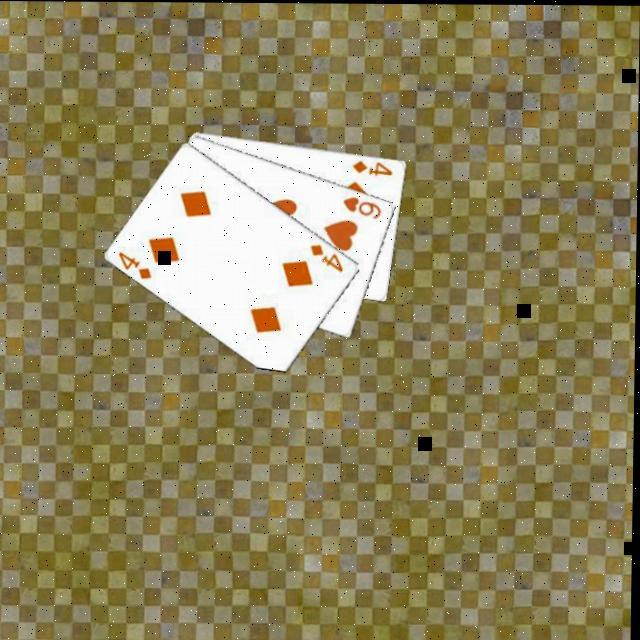4D: (310, 238, 350, 272), (118, 246, 158, 280), (352, 154, 398, 176)
6H: (342, 190, 387, 218)
